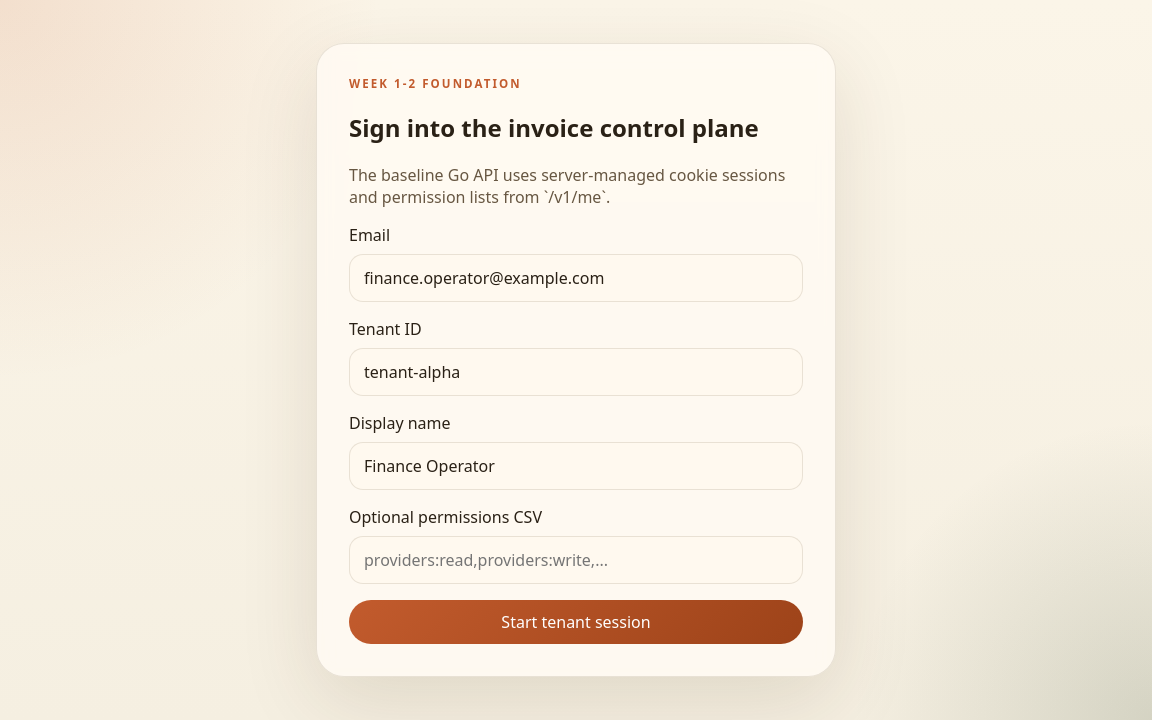
it: renders login flow and lands on overview after successful auth
This screenshot has width=1152, height=720.
Expected: the heading "Sign into the invoice control plane" is shown, [349,111,803,144]
Click the button "Start tenant session" at (576, 622), box [349,600,803,644]
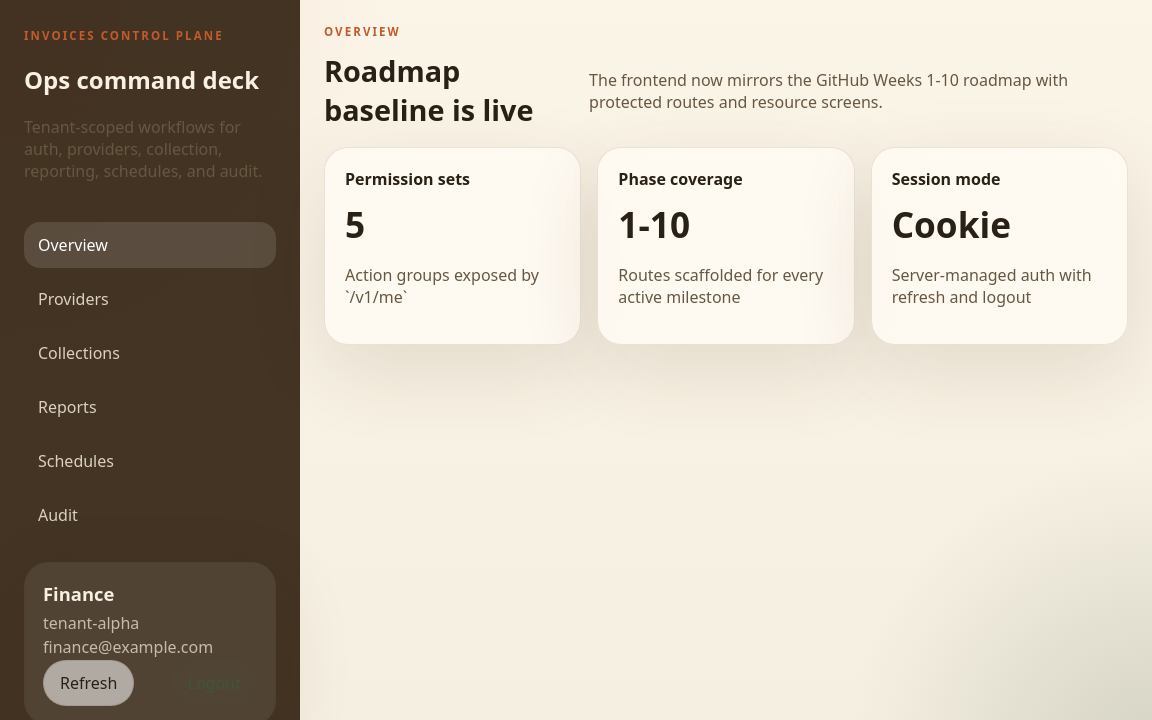
Expected: the heading "Roadmap baseline is live" is shown, [324,51,569,129]
